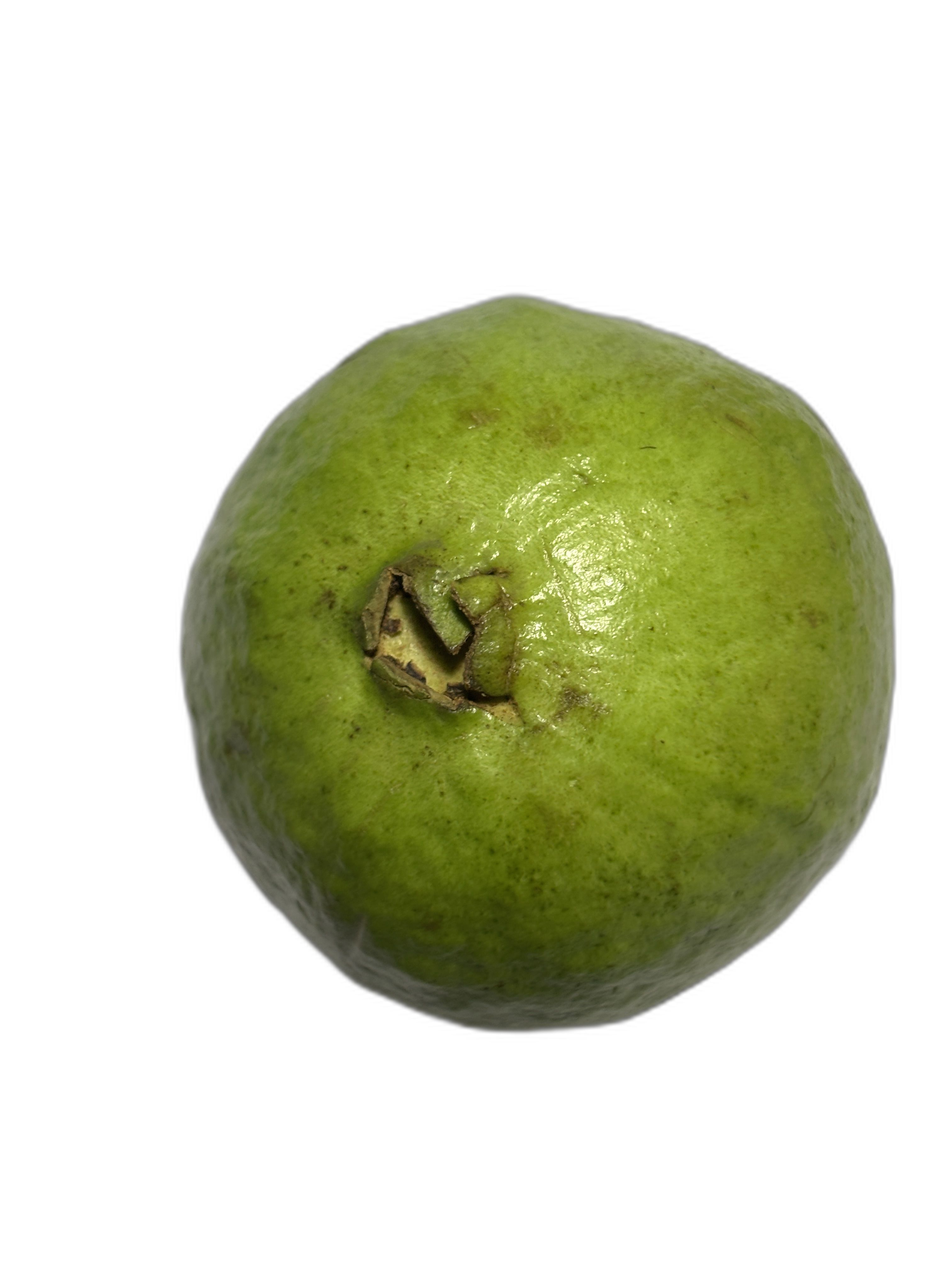guava: (36, 148, 790, 1119)
